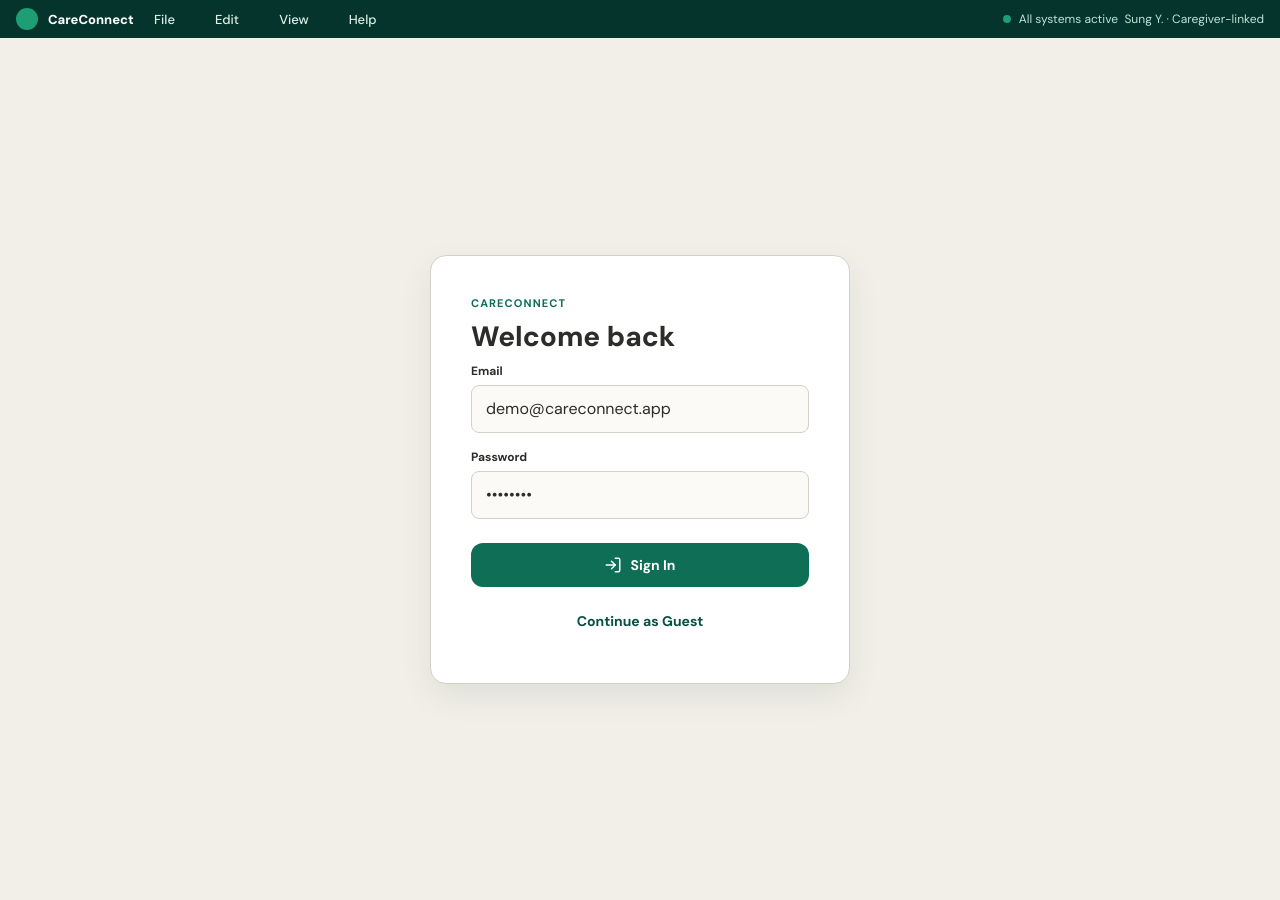
LoginScreen › shows an inline error for empty credentials and stays put
Clear the field labelled "Email" at [640, 408], box [471,384,809,432]
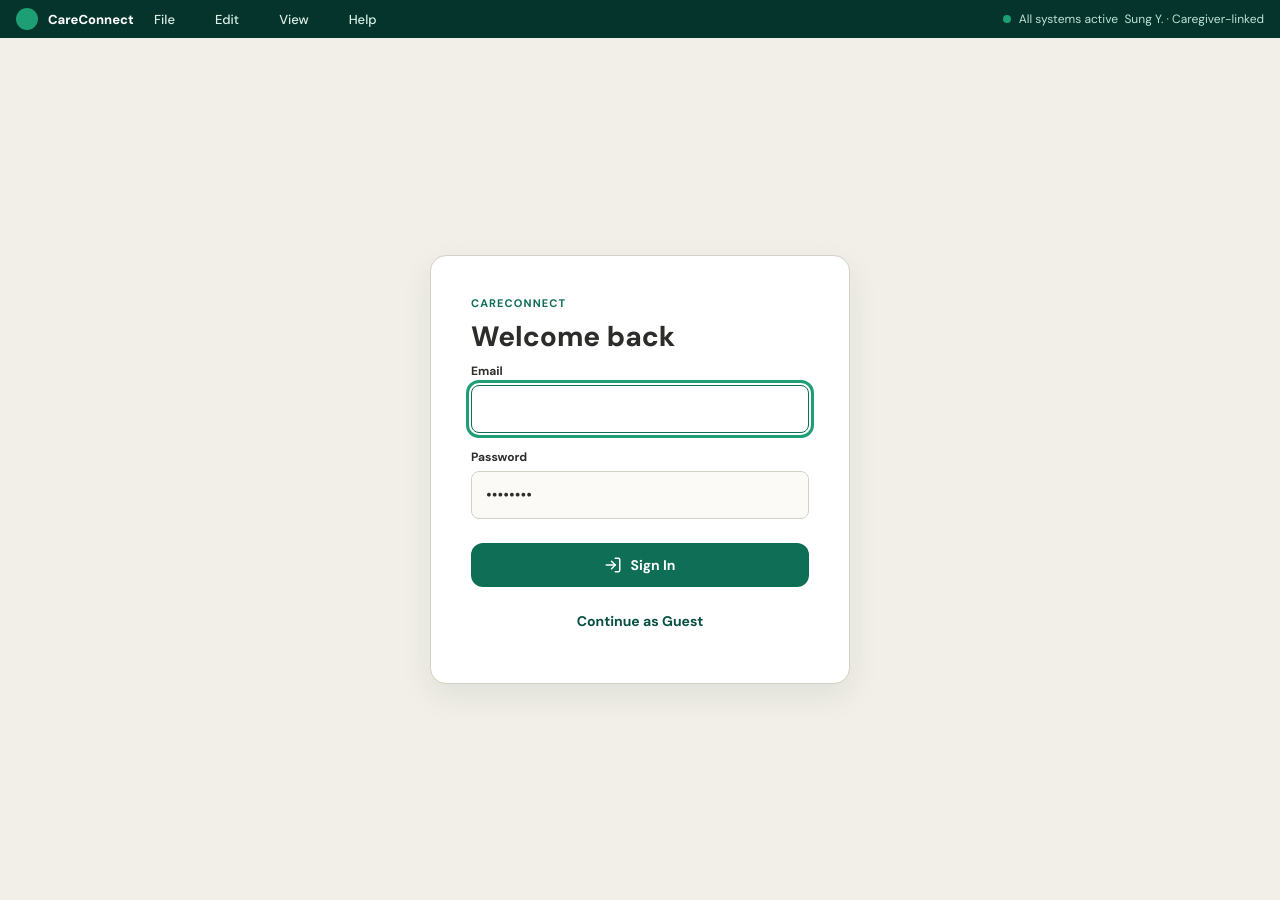
Clear the password field labelled "Password" at [640, 494], box [471,470,809,518]
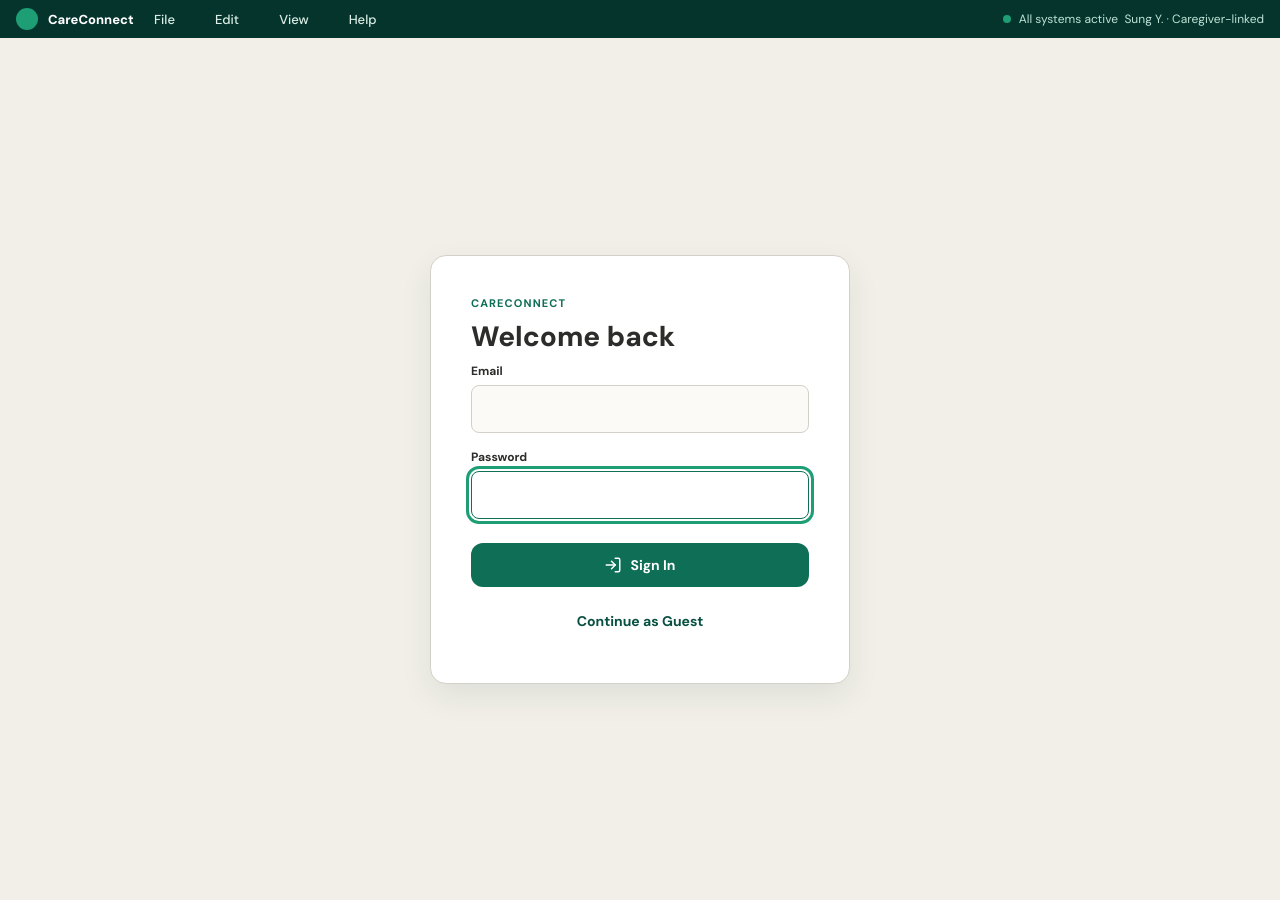
Click the button "Sign In".
click(640, 564)  # box [471,542,809,586]
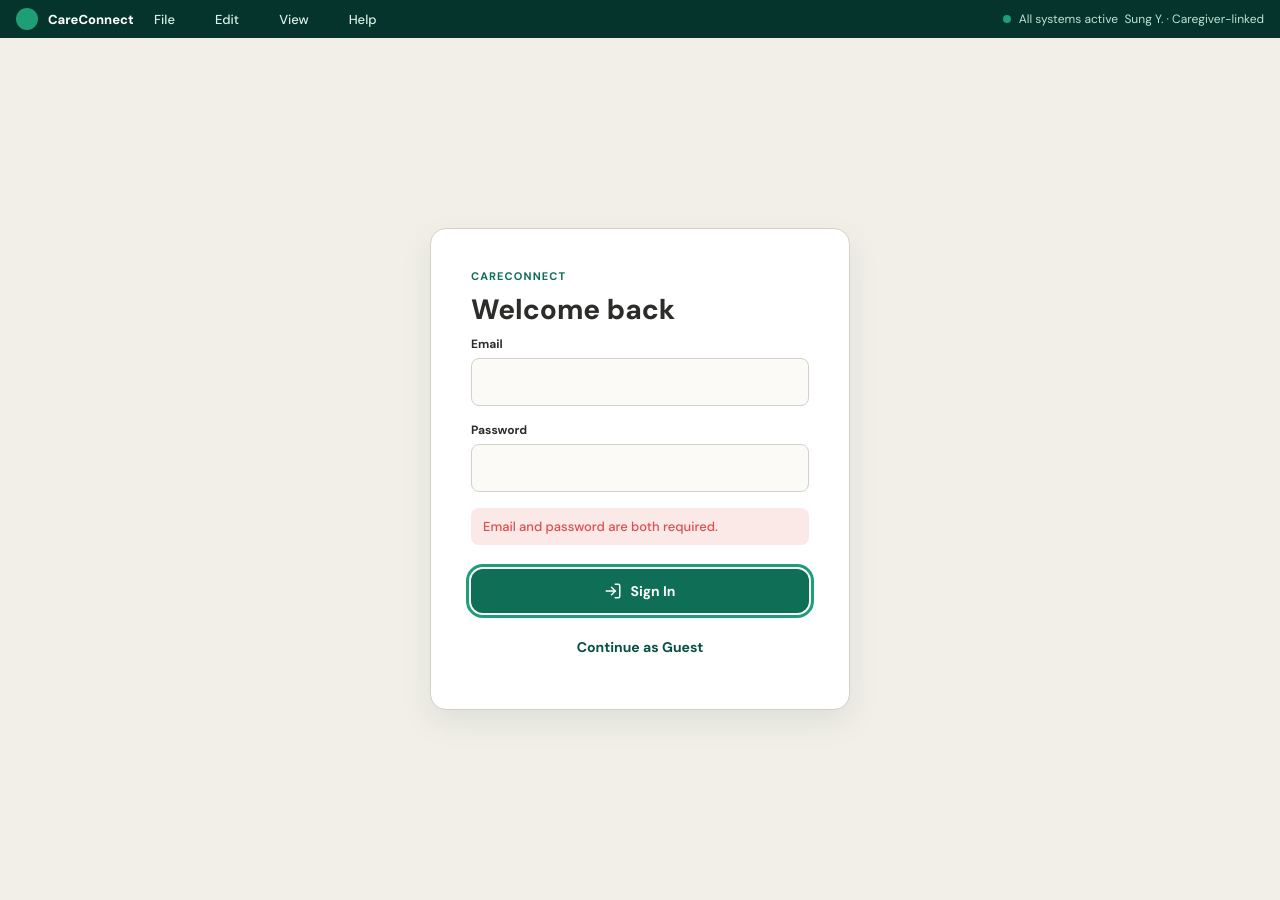
Expected: the heading "Welcome back" is shown, [471,291,675,328]
Expected: the message reads "Email and password are both required.", [483,518,718,535]
